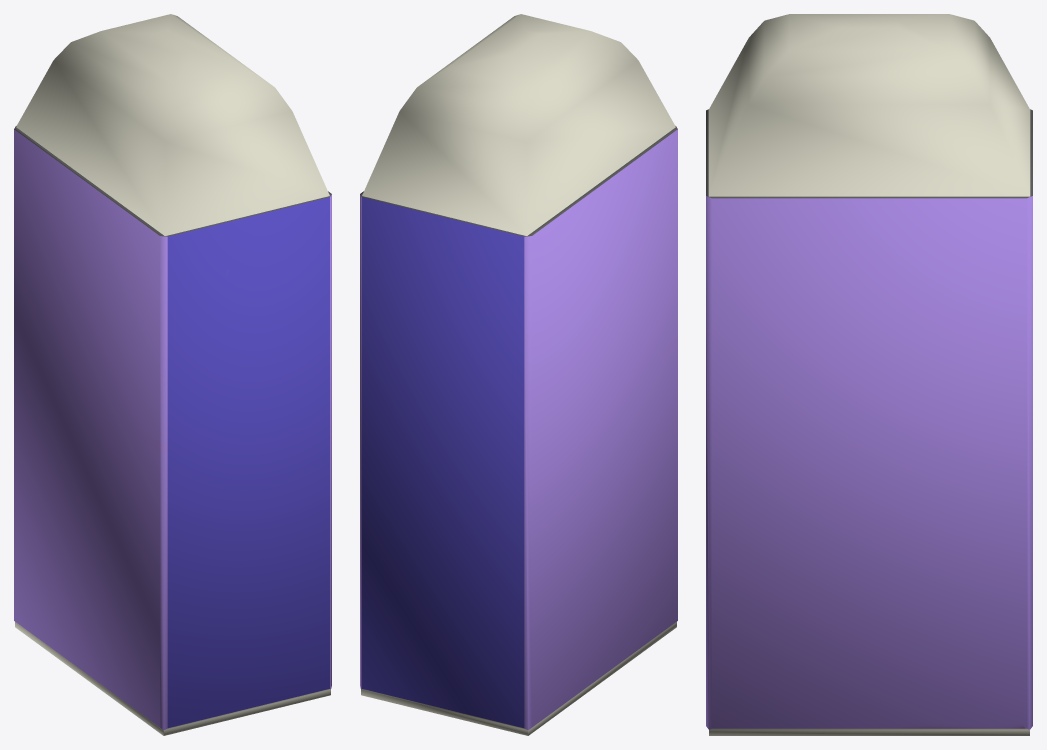
File: Ereaser.fbx
The picture shows the model from 3 angles, left to right: view 1: azimuth 30°, elevation 25°; view 2: azimuth 150°, elevation 25°; view 3: azimuth 270°, elevation 25°; orthographic projection. The views are drawn at different scales.
Parts seen in each view (by area): view 1: Cube.001; view 2: Cube.001; view 3: Cube.001.
Part boxes in pixels (x1,y1,x2,y2): Cube.001: (14,14,331,735); Cube.001: (360,14,677,735); Cube.001: (706,14,1032,735).
Size of the model in its own units: 4.86 by 16.69 by 7.41.
1 material, 1 textured.
